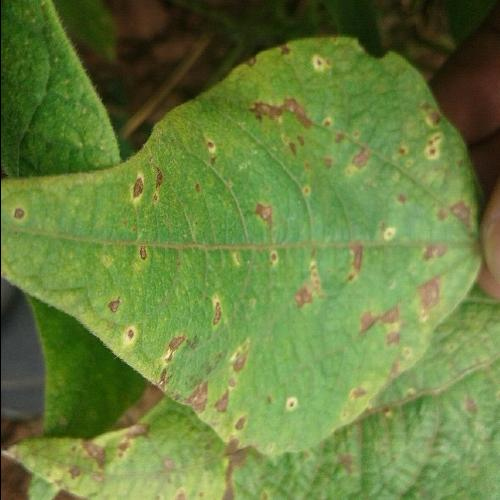hawar: (284, 234, 466, 364), (145, 296, 271, 436), (330, 90, 452, 203), (221, 80, 326, 171), (236, 188, 291, 260), (107, 160, 175, 208)
